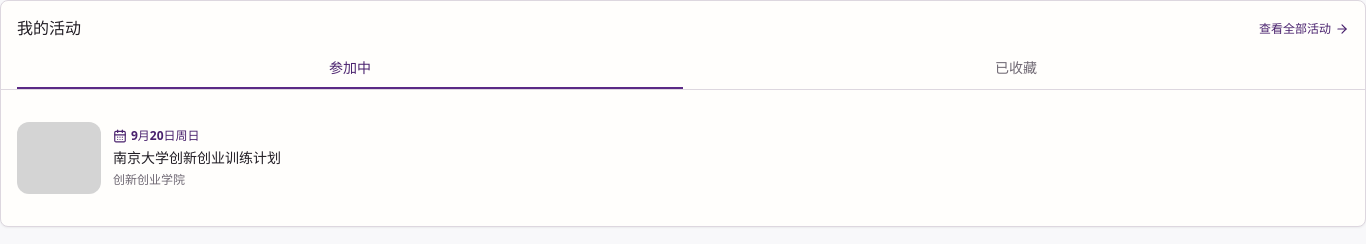
Test: MyEventsSummary › keeps the attending tab visible when only saved events are degraded
Check: the text "南京大学创新创业训练计划" is shown, box [113,148,281,167]
Click the tab "已收藏": [1016, 69] box [683,49,1349,89]
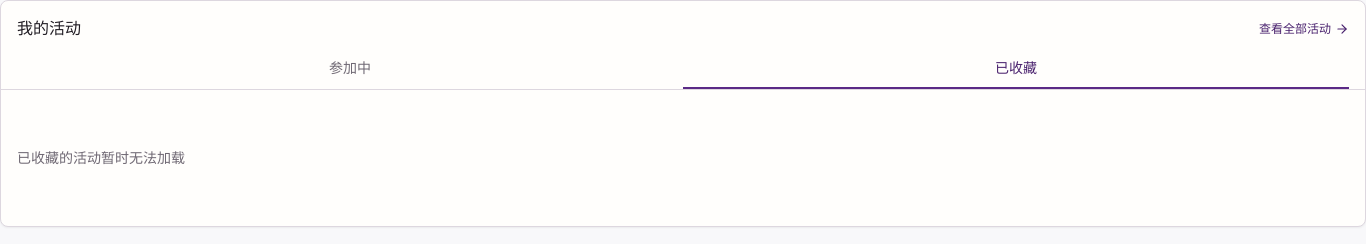
Check: the message reads "已收藏的活动暂时无法加载", box [17,148,185,167]
Check: the link "南京大学创新创业训练计划" is gone
